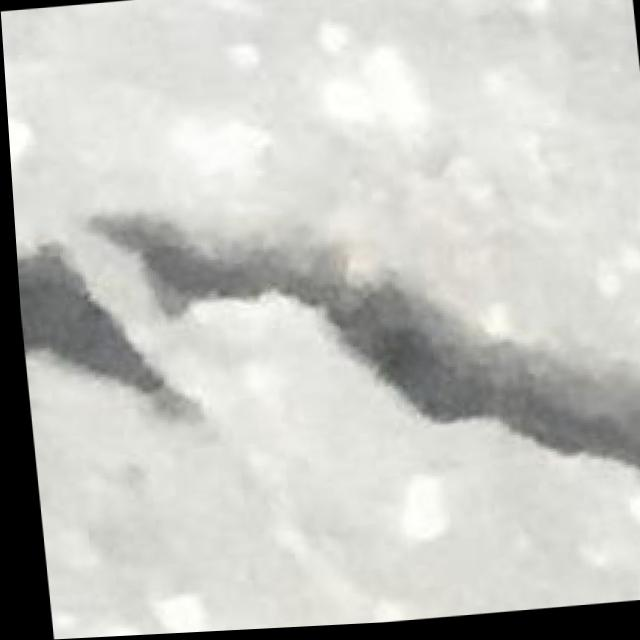Crack: (80, 152, 640, 535)
